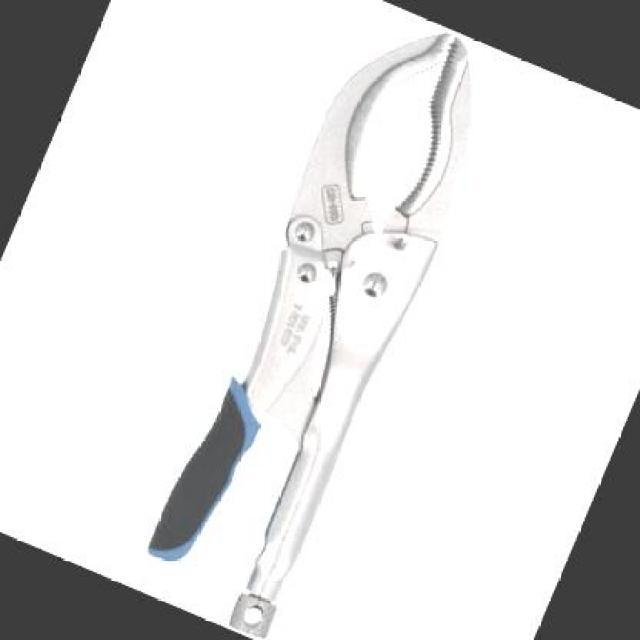pliers: (78, 0, 569, 638)
